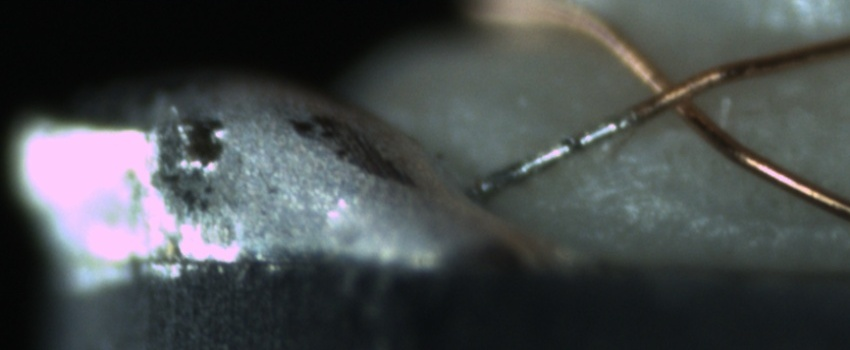CL: (634, 55, 715, 127)
TS: (467, 109, 636, 198)
